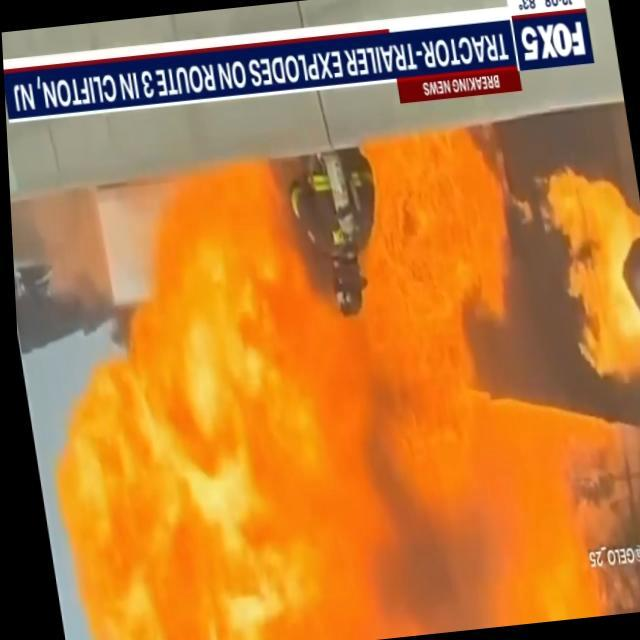fire: (8, 135, 599, 640), (534, 162, 640, 382)
